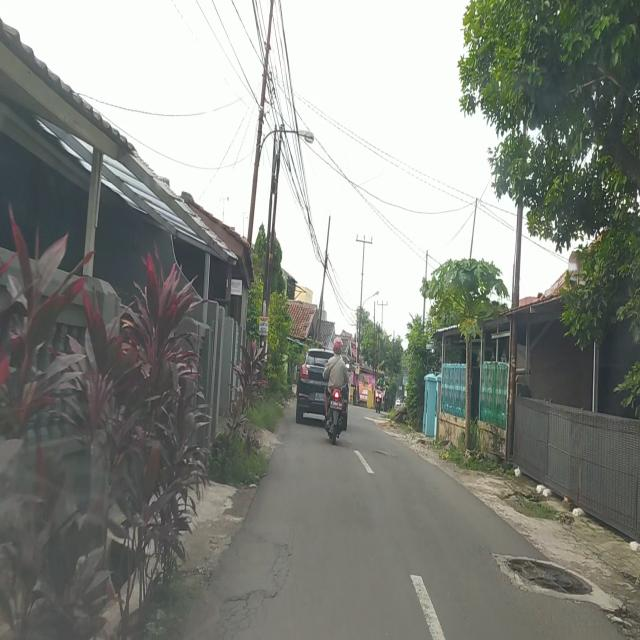Drain Hole: (212, 533, 292, 639)
